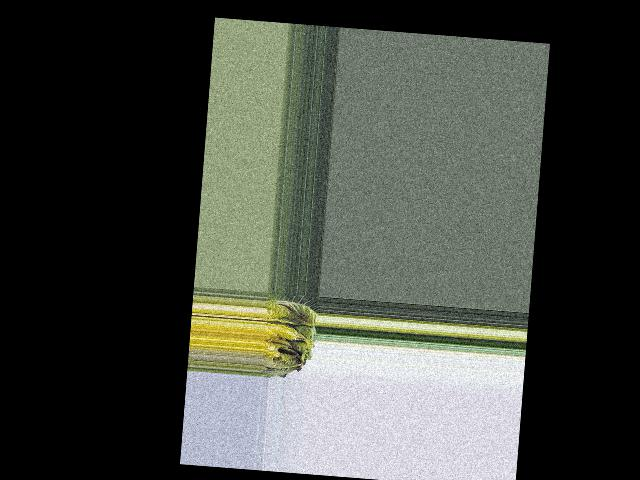lettuce: (260, 292, 317, 378)
